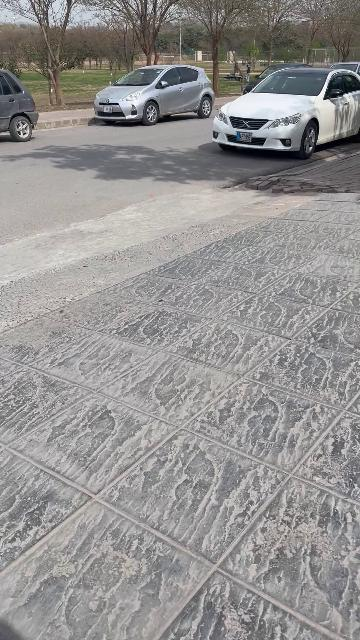plate: (237, 131, 252, 143)
